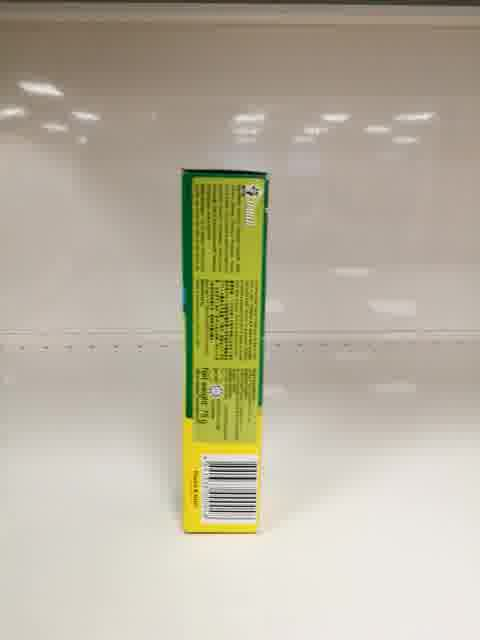toothpaste: (181, 169, 269, 536)
